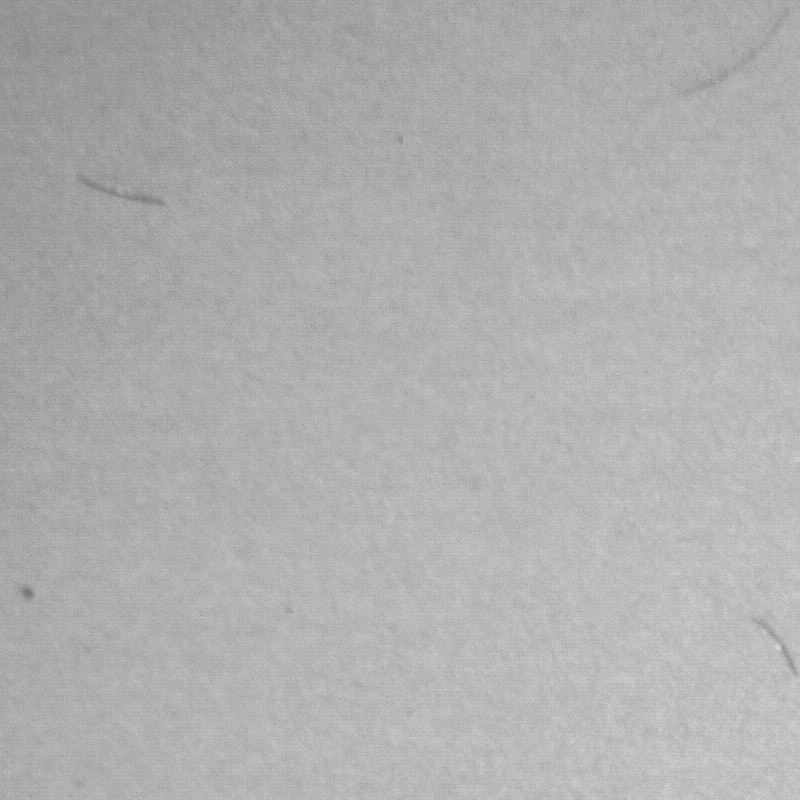defect: (684, 6, 793, 96), (80, 176, 171, 209), (754, 617, 797, 678), (24, 586, 40, 602)
